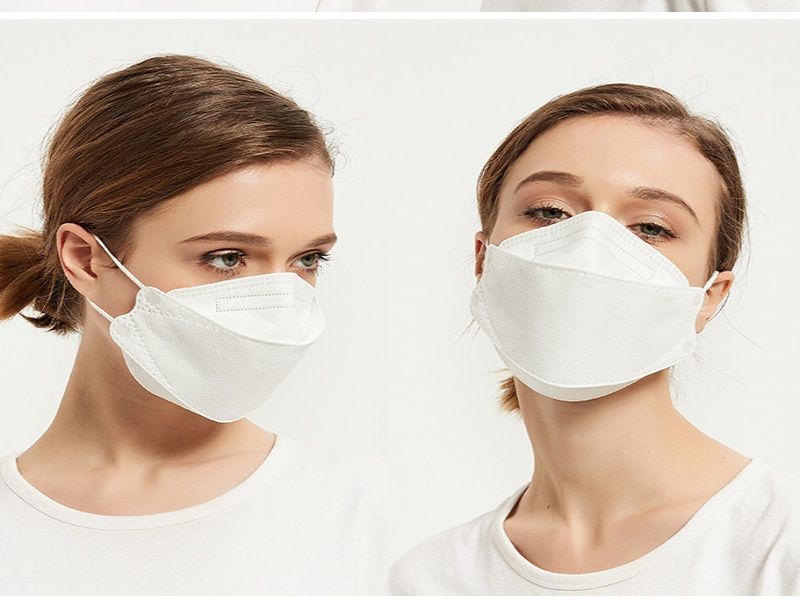mask: (467, 210, 707, 405), (108, 273, 327, 425)
